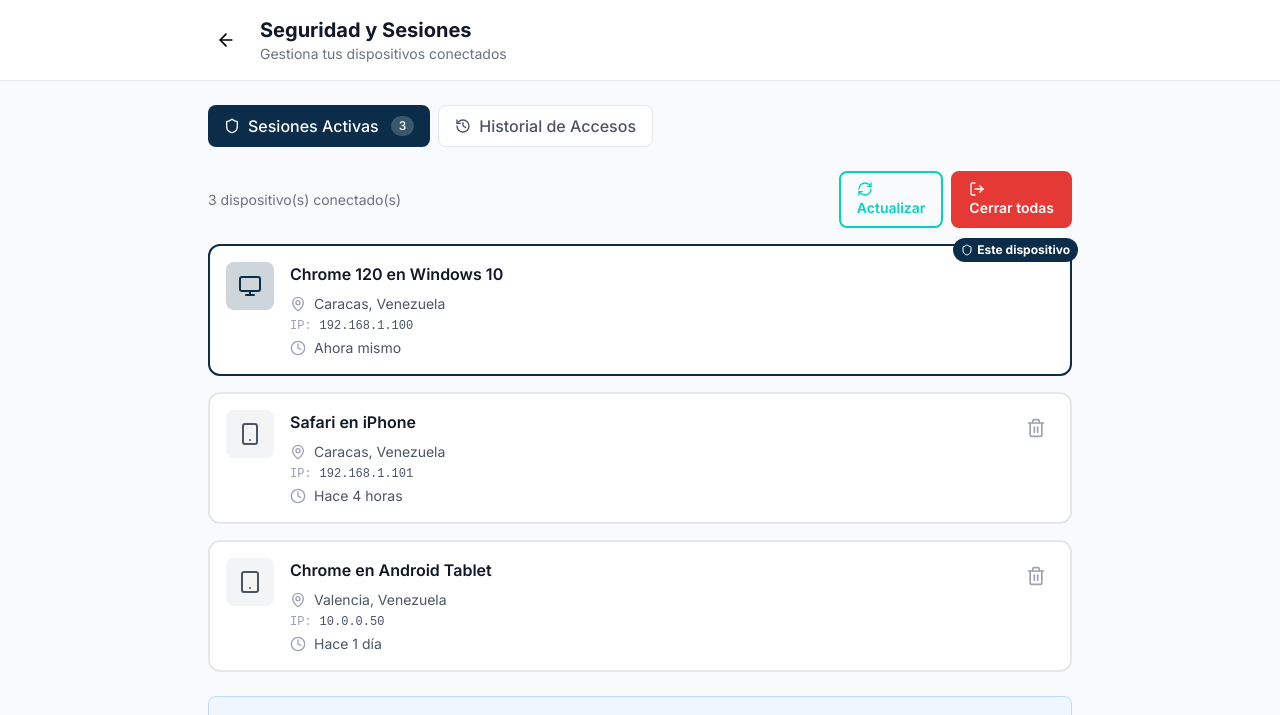
Test case: Gestión de Sesiones - E2E › Página de Sesiones (UI sin backend) › debe cambiar a tab de historial
What coordinates should you click on to do the following:
click the button "Historial de Accesos"
I would click on:
 (546, 126)
Its box is [438,105,653,147].
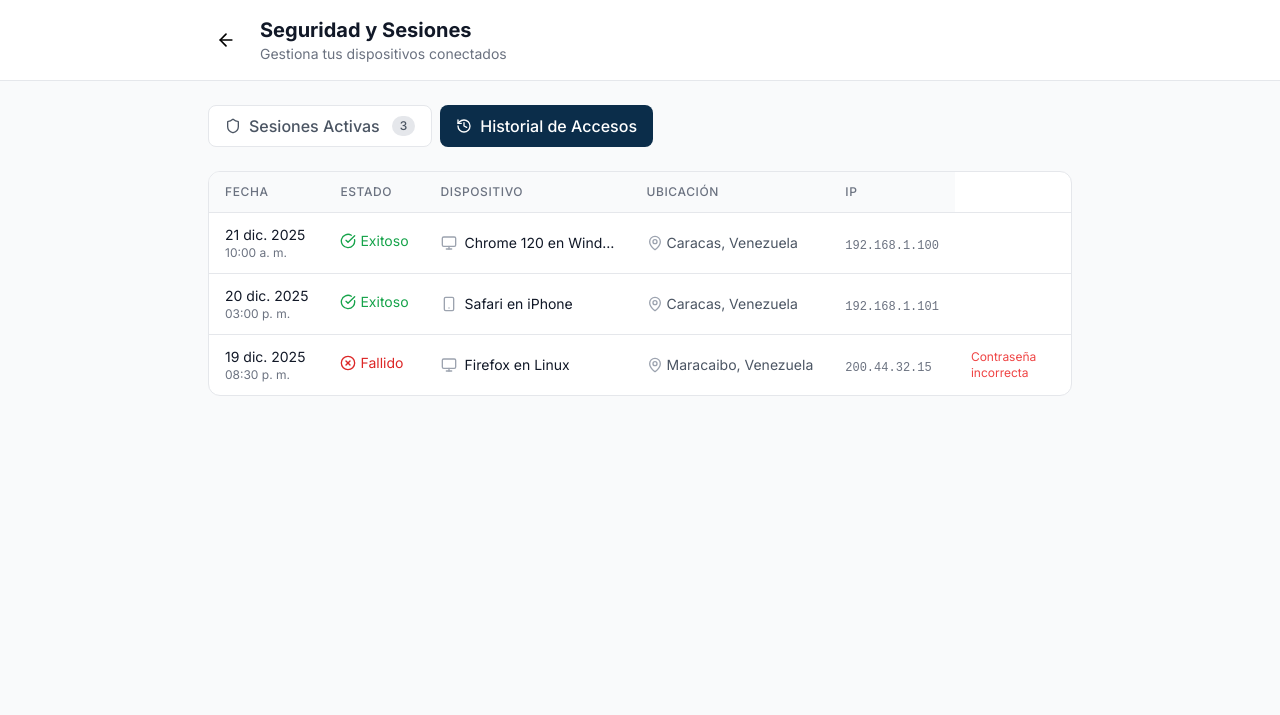
Now the table is shown, box [209,172,1071,395]
